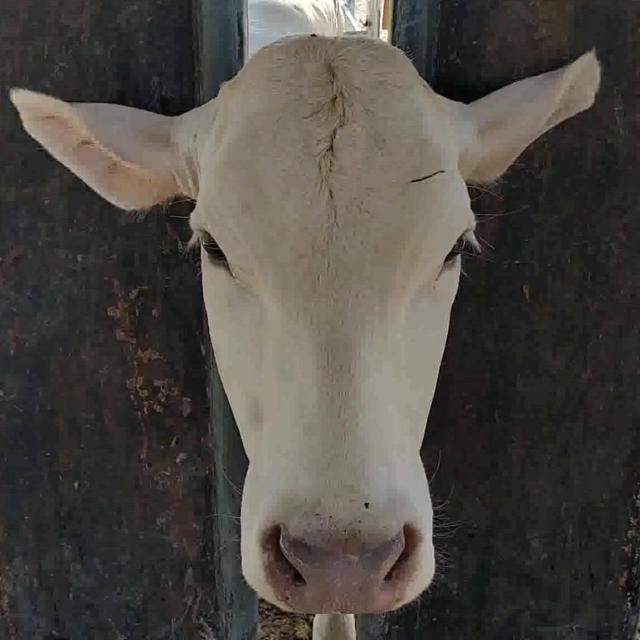cowFace: (194, 31, 484, 608)
